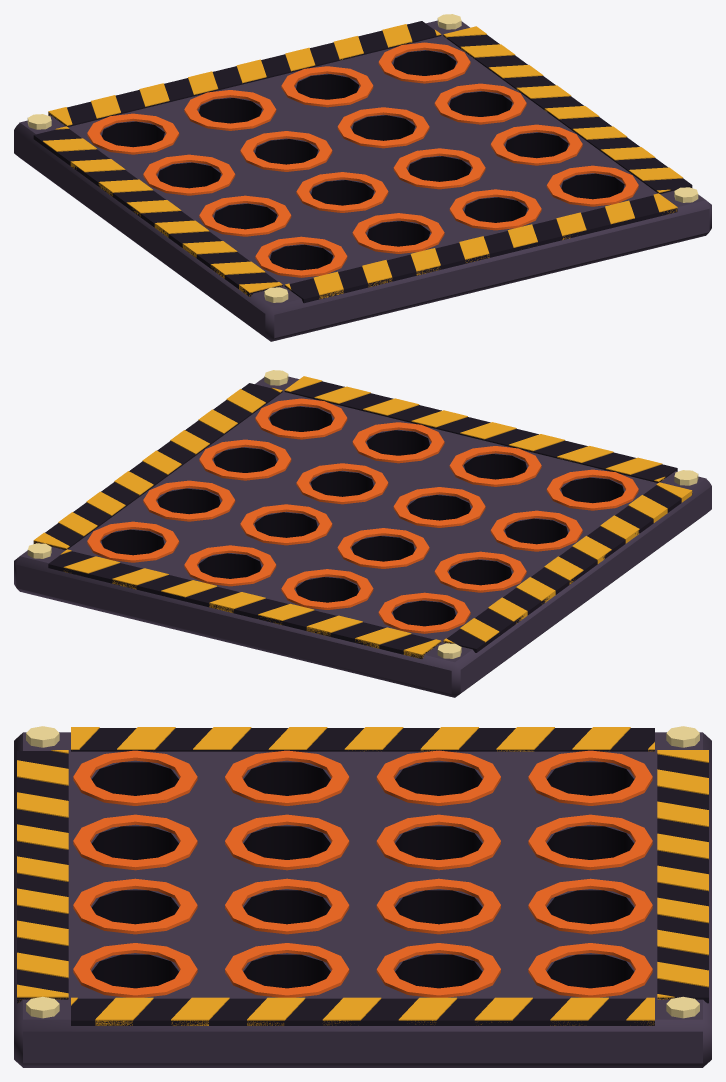
File: trap_spikes__lower.glb
3 renders of one model, top to bottom at view 1: azimuth 30°, elevation 25°; view 2: azimuth 150°, elevation 25°; view 3: azimuth 270°, elevation 25°, orthographic. The views are drawn at different scales.
Visible parts, largest first — view 1: Base; view 2: Base; view 3: Base.
Part boxes in pixels (<box>): Base: <box>14,14,711,341</box>; Base: <box>14,370,711,697</box>; Base: <box>14,726,711,1067</box>.
Size of the model in its own units: 0.92 by 0.081 by 0.92.
